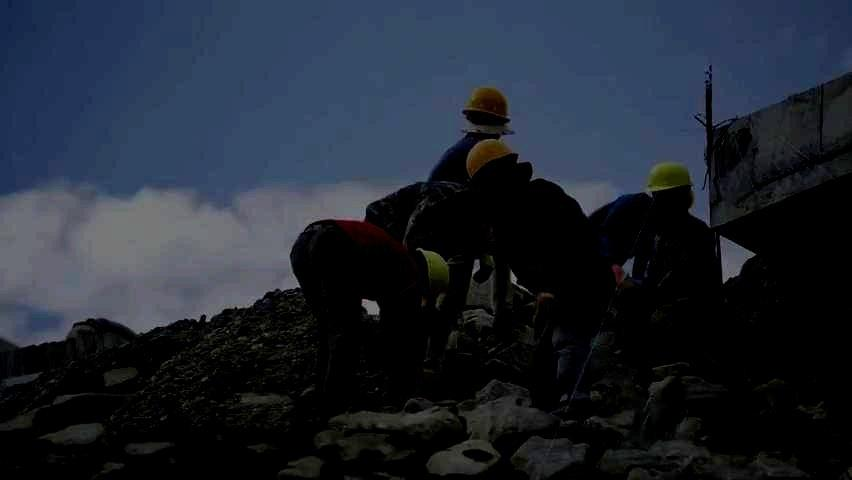helmet: (645, 161, 696, 220), (466, 139, 519, 195), (406, 248, 450, 300), (460, 86, 512, 130)
